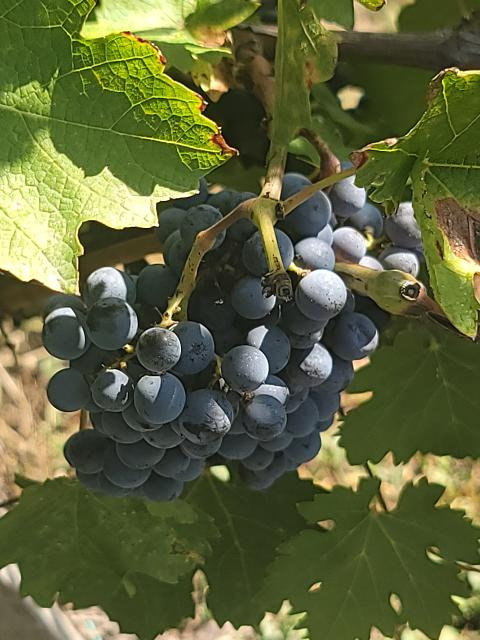grapes: (188, 179, 422, 490), (45, 268, 234, 501)
